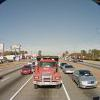Car: (62, 57, 100, 93)
